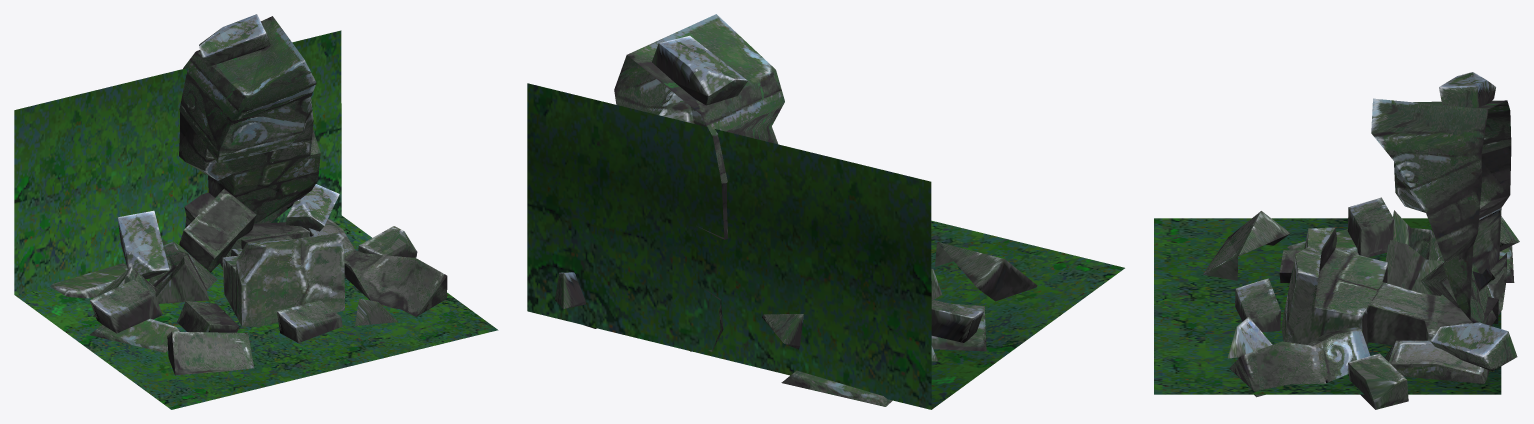
Rendered from stemple_rubble_straight_03.fbx.
The picture shows the model from 3 angles, left to right: view 1: azimuth 30°, elevation 25°; view 2: azimuth 150°, elevation 25°; view 3: azimuth 270°, elevation 25°; orthographic projection. The views are drawn at different scales.
Visible parts, largest first — view 1: stemple_rubble_straight_03-0; view 2: stemple_rubble_straight_03-0; view 3: stemple_rubble_straight_03-0.
Part boxes in pixels (left/top/right/bottom): stemple_rubble_straight_03-0: left=14, top=14, right=498, bottom=409; stemple_rubble_straight_03-0: left=527, top=14, right=1124, bottom=409; stemple_rubble_straight_03-0: left=1154, top=72, right=1519, bottom=409.
Bounding box in the file's own units: 4.23 × 2.91 × 3.51.
